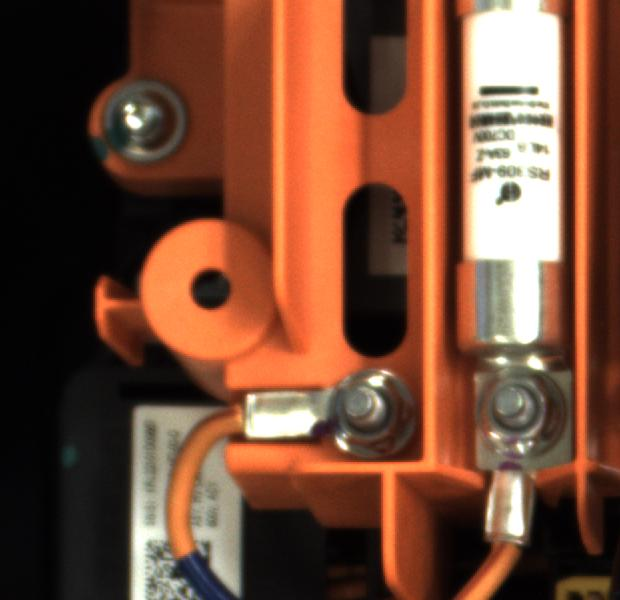screw_m: (91, 69, 189, 165)
screw_s: (468, 368, 567, 459), (330, 365, 417, 447)
